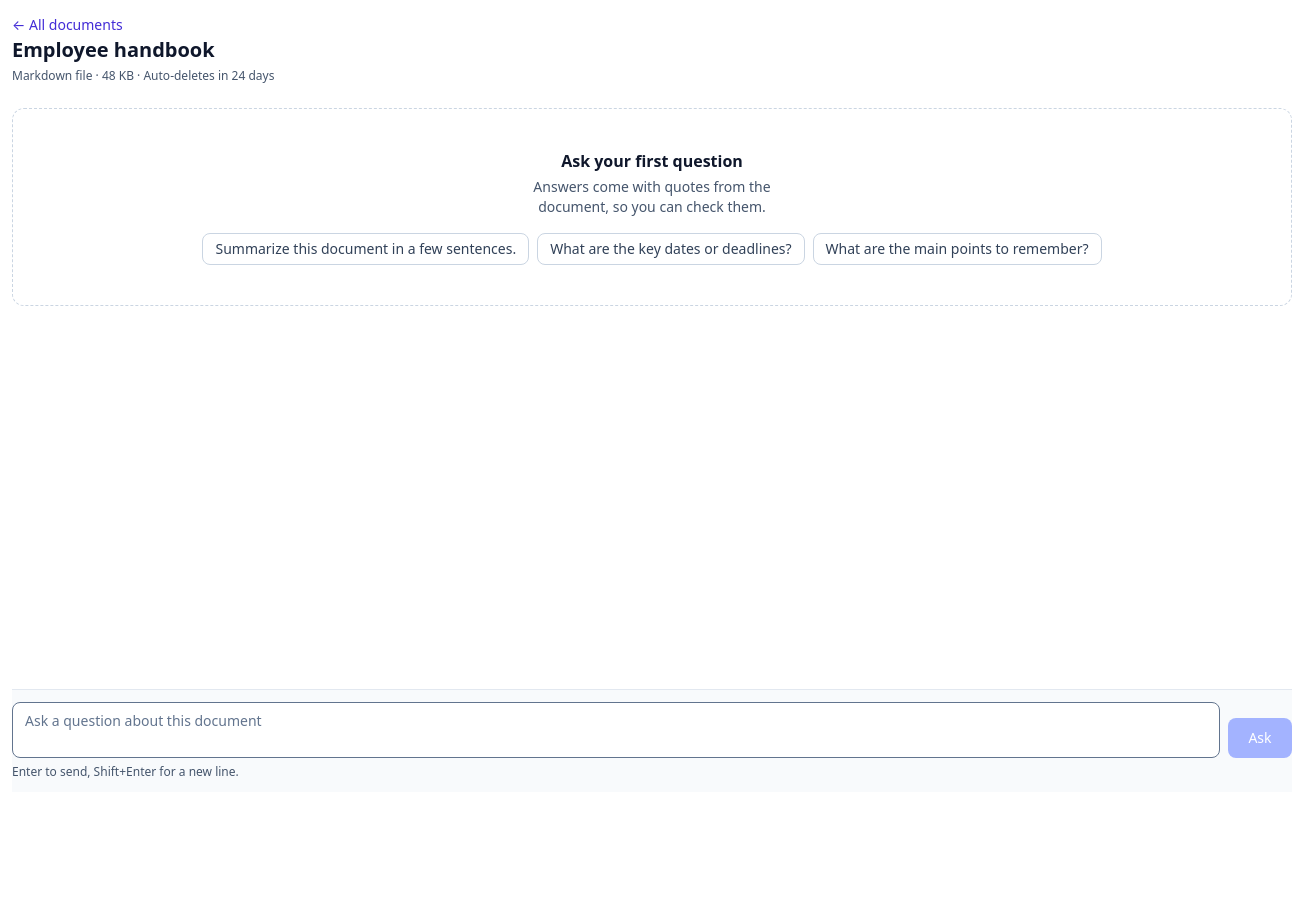
Scenario: ChatView: an answer that ended early › is neutral when the connection dropped and the server stored the reply as cut short
In the text box named "Your question": (616, 730) [12, 702, 1220, 758], type "How many vacation days do I get?"
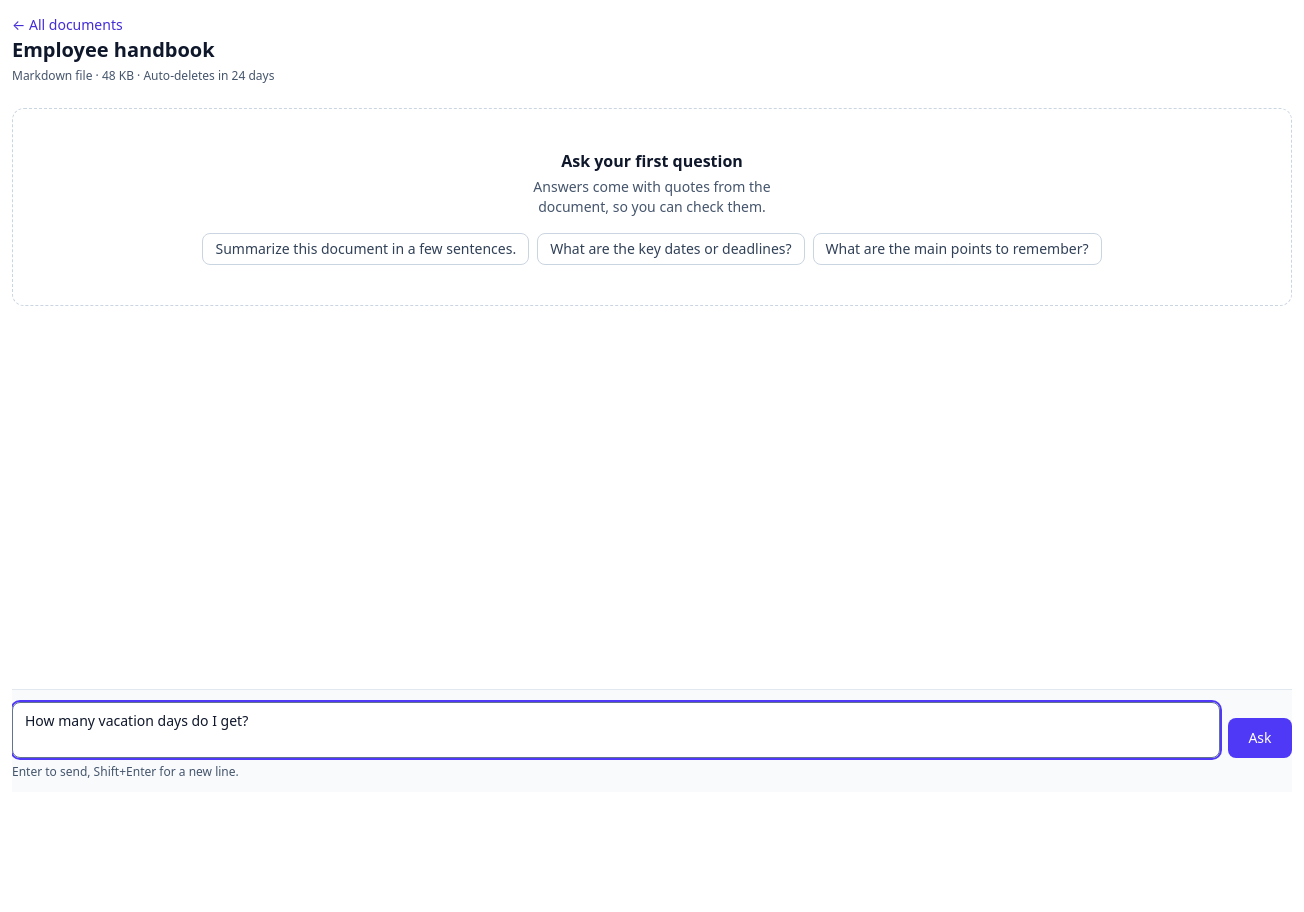
Press Enter
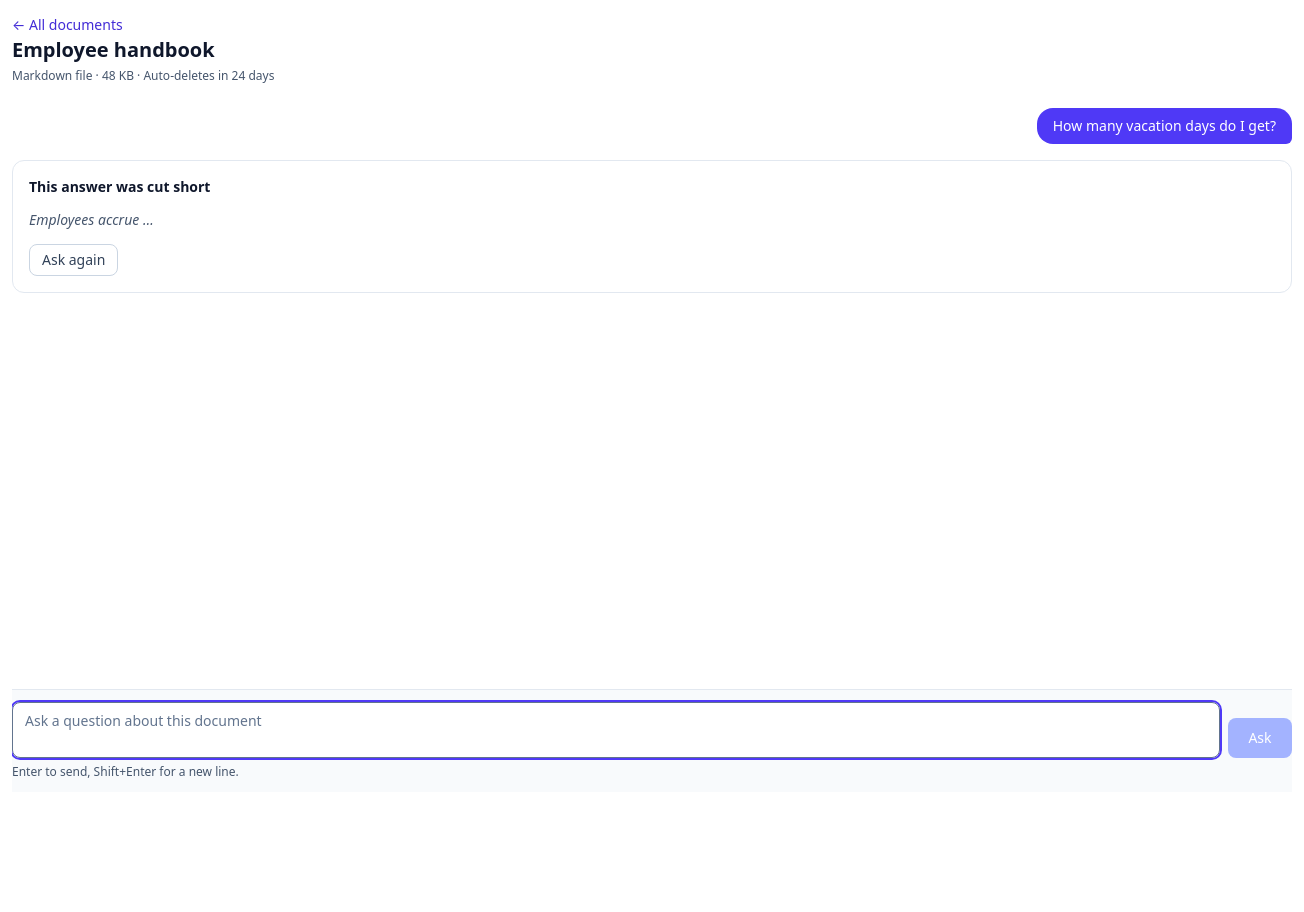
Expected: the text "This answer was cut short" is shown, [29, 177, 210, 196]
